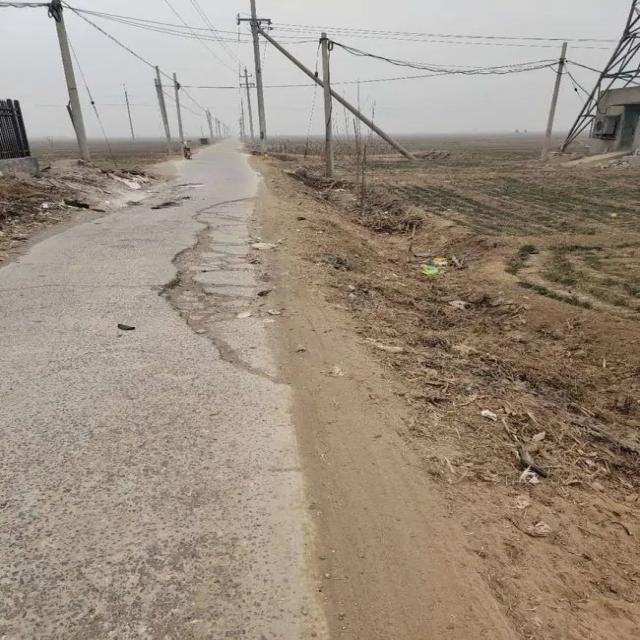Pothole: (168, 197, 313, 394)
